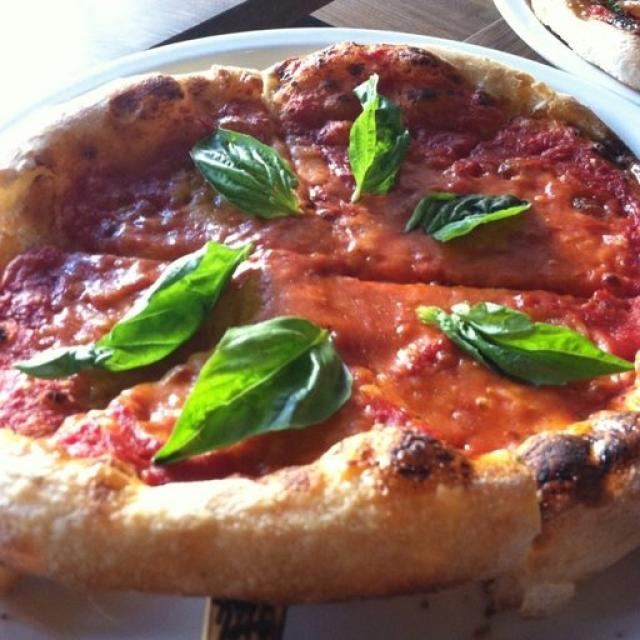Basil: (13, 243, 250, 375), (152, 320, 352, 458), (424, 300, 635, 382), (183, 134, 305, 214), (357, 90, 404, 198), (410, 197, 526, 228)
Pizza: (0, 48, 640, 592)
